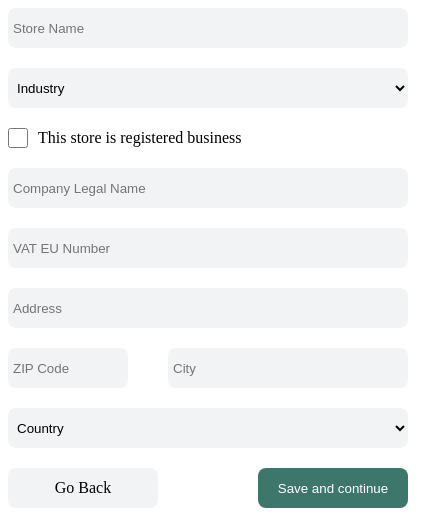
Test: Registration Form Tests › actions tests › should show 7 errors on submitting an empty form
Click the button with test id "submit-button": (333, 488) [258,468,408,508]
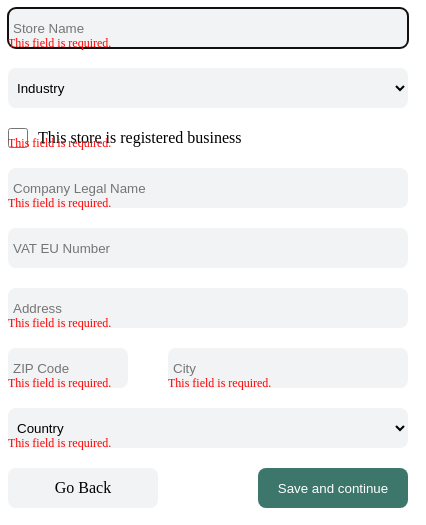
Check: the text "This field is required." is shown 7 times
